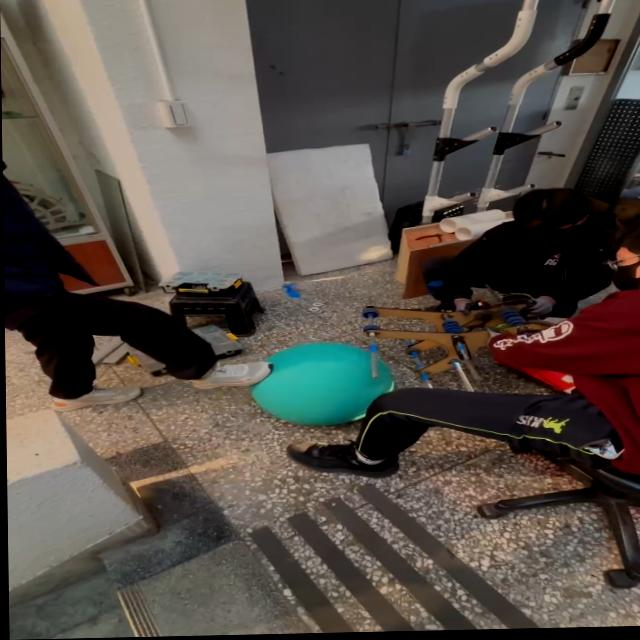ALGAE: (247, 339, 396, 429)
